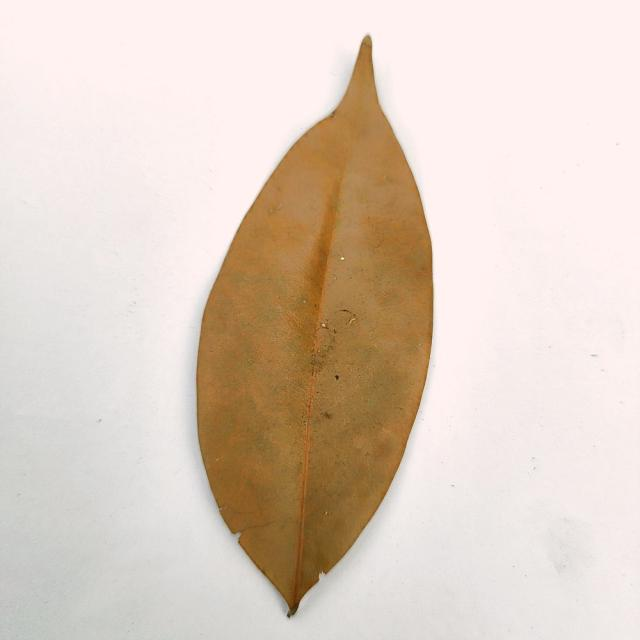Dry_Leaf-Lychee: (195, 36, 435, 618)
